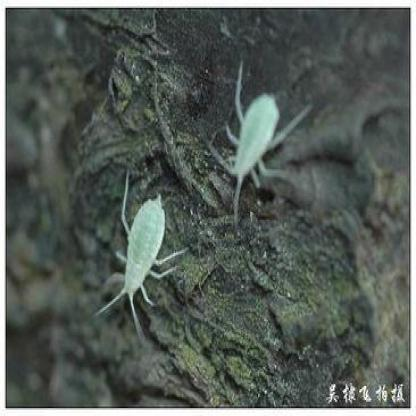aphid: (101, 178, 177, 335), (214, 62, 288, 211)
